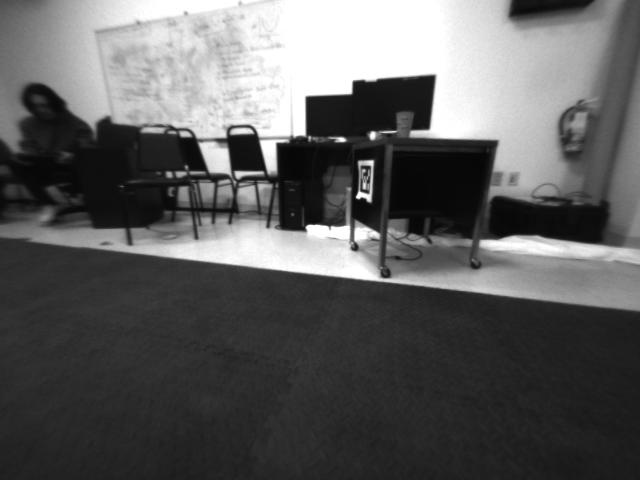coffee_cup: (392, 108, 414, 136)
